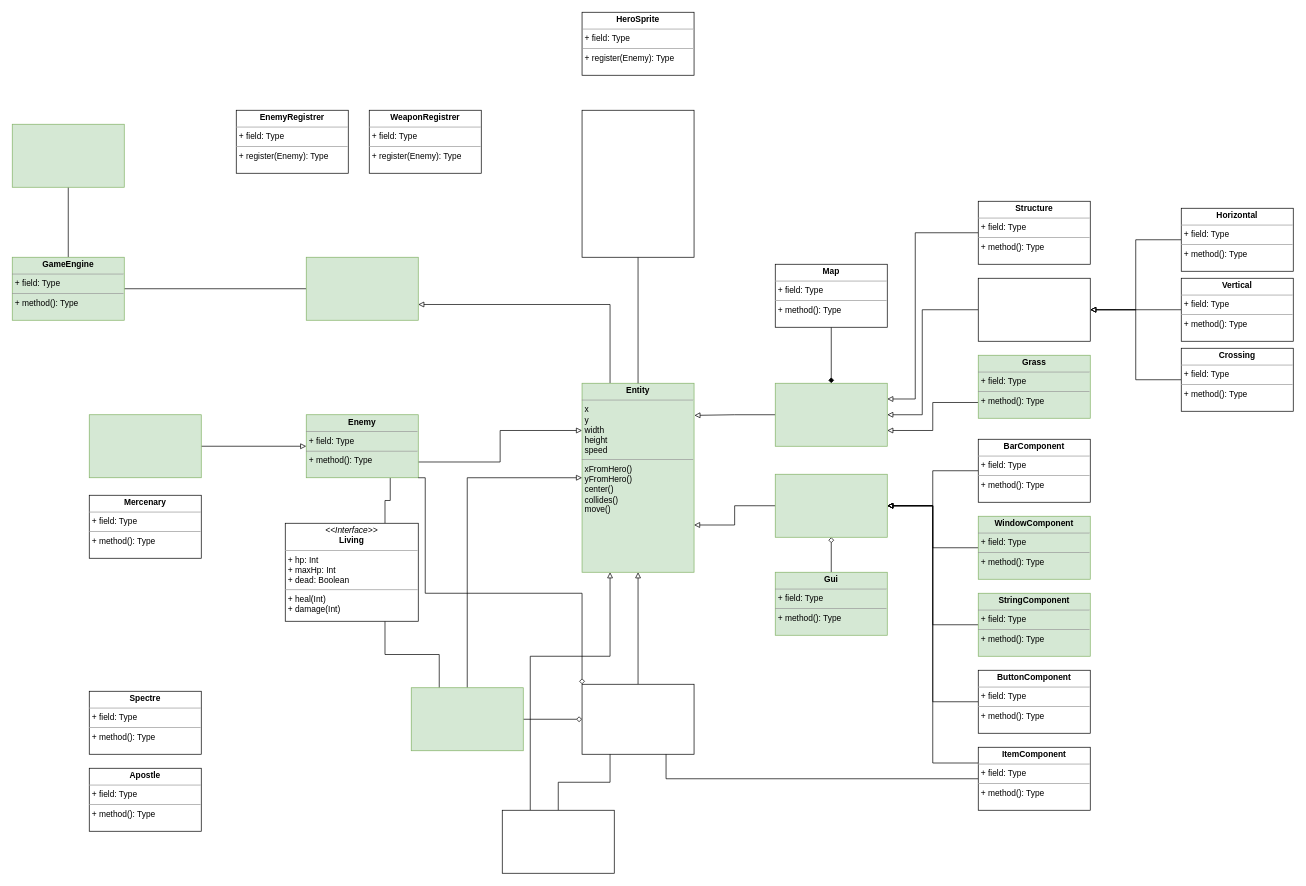
This 1306x886 diagram has some shape labels left out. The shapes that lost their labels are listed below. From the top down, each one's box as (x1, y1, x2, y2) in pixels, then its label:
(12, 124, 124, 187): Window + field: Type + method(): Type
(581, 110, 694, 257): Sprite animationState image + method(): Type
(306, 257, 418, 320): Game + field: Type + method(): Type
(978, 278, 1090, 341): Path + field: Type + method(): Type
(775, 383, 887, 446): Tile + field: Type + method(): Type
(89, 414, 201, 478): Warrior + field: Type + method(): Type
(775, 474, 887, 537): GuiComponent + field: Type + method(): Type
(411, 687, 523, 751): Hero + field: Type + method(): Type
(581, 684, 694, 754): Weapon
(502, 810, 614, 873): WeaponEffect + field: Type + method(): Type
